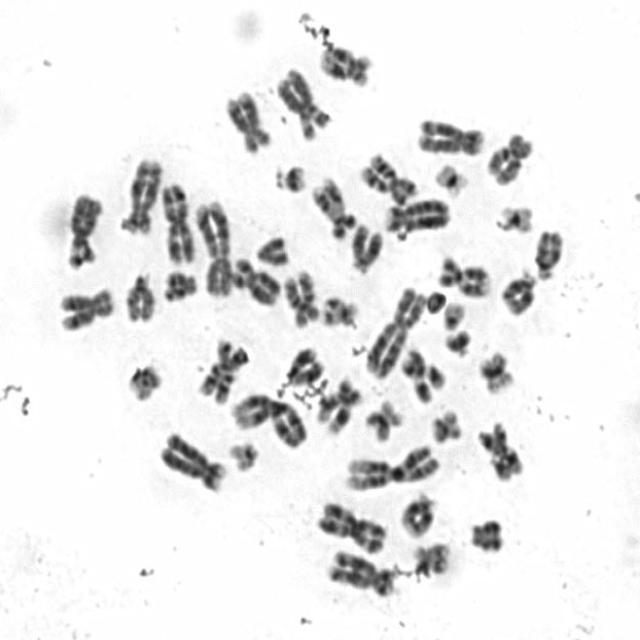A1: (226, 384, 311, 450), (341, 436, 438, 492)
A2: (200, 193, 236, 297), (228, 250, 283, 306)
A3: (313, 493, 390, 555), (156, 174, 198, 264)
B4: (158, 425, 228, 493), (378, 190, 452, 233)
B5: (115, 150, 165, 236), (324, 542, 398, 598)
C10: (482, 126, 535, 178), (288, 264, 319, 325)
C11: (474, 423, 526, 477), (396, 342, 449, 392)
C12: (314, 38, 373, 87), (312, 379, 363, 424)
C6: (60, 184, 105, 270), (270, 70, 334, 129)
C7: (363, 146, 418, 204), (355, 156, 420, 202)
C8: (220, 87, 275, 149), (54, 279, 116, 331)
C9: (433, 248, 494, 298), (308, 176, 357, 233)
D13: (361, 312, 402, 378), (463, 510, 507, 555)
D14: (190, 195, 222, 258), (281, 340, 322, 386)
D15: (530, 221, 567, 281), (120, 266, 156, 324)
E16: (321, 373, 357, 437), (122, 357, 164, 403)
E17: (317, 289, 361, 329), (408, 537, 452, 576)
E18: (157, 263, 200, 303), (251, 228, 292, 267)
F19: (428, 156, 472, 198), (492, 196, 537, 235)
F20: (425, 403, 465, 445), (224, 433, 262, 473)
G21: (268, 156, 308, 194), (438, 322, 476, 356)
G22: (224, 433, 262, 473), (437, 295, 468, 331)
X: (412, 116, 486, 157)
Y: (420, 284, 448, 314)
